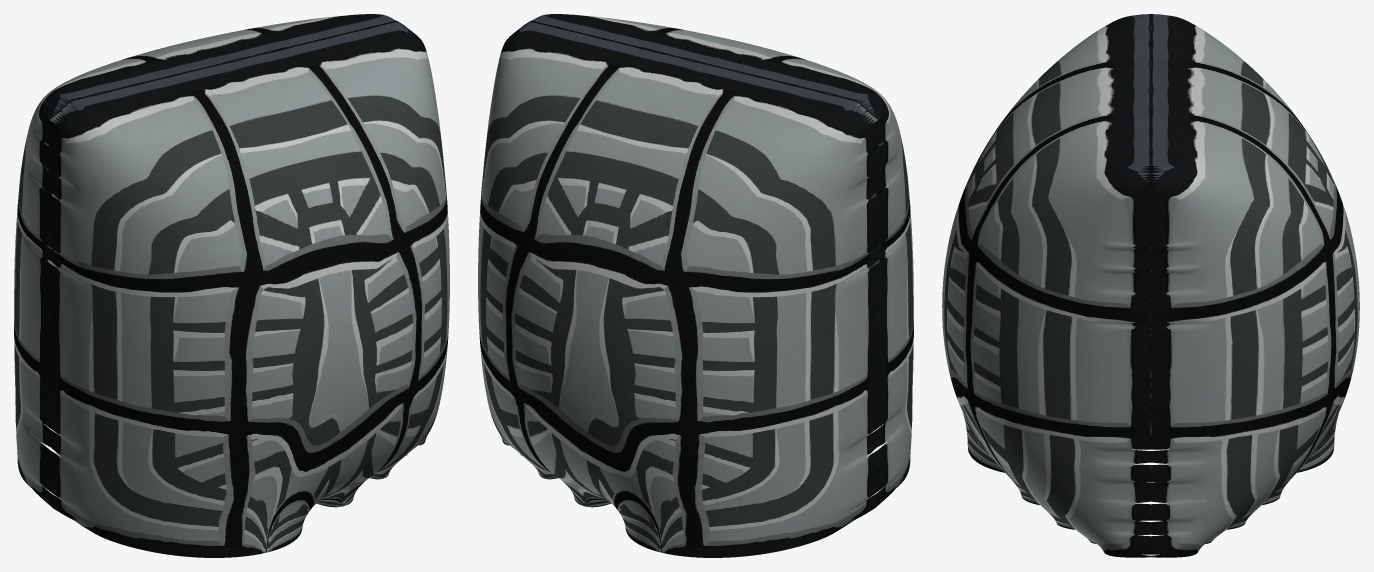
The model's file is rear_grille.glb.
3 renders of one model, left to right at view 1: azimuth 30°, elevation 25°; view 2: azimuth 150°, elevation 25°; view 3: azimuth 270°, elevation 25°, orthographic. The views are drawn at different scales.
Visible parts, largest first — view 1: rear_grille; view 2: rear_grille; view 3: rear_grille.
Boxes of the visible parts, x1=… form: rear_grille: x1=14, y1=14, x2=449, y2=557; rear_grille: x1=478, y1=14, x2=913, y2=557; rear_grille: x1=942, y1=14, x2=1359, y2=557.
Bounding box in the file's own units: 0.9884 × 1.05 × 1.02.
1 material, 1 textured.
